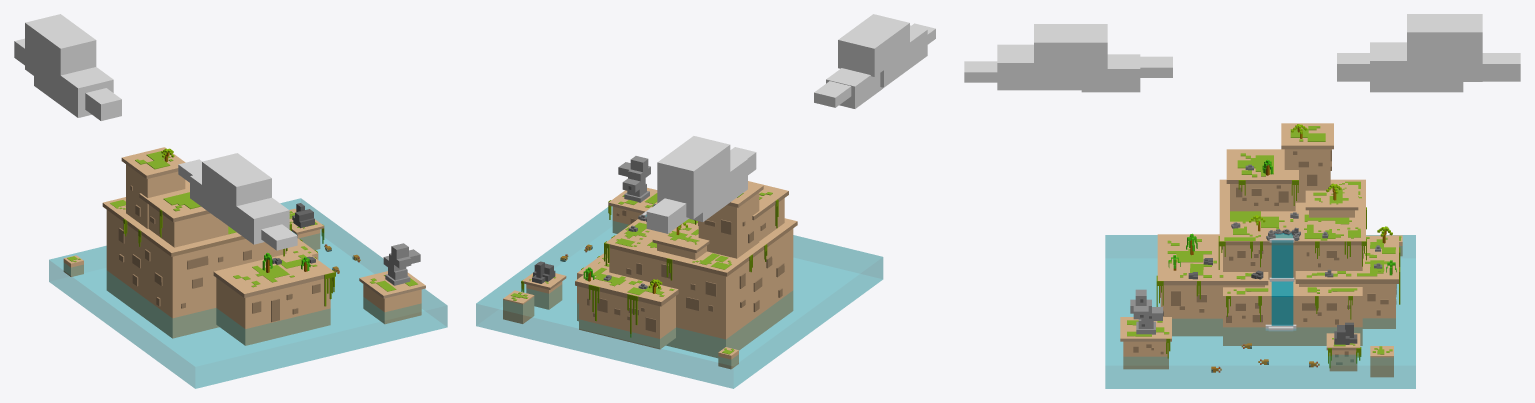
The model's file is Voxel Island.fbx.
The picture shows the model from 3 angles, left to right: view 1: azimuth 30°, elevation 25°; view 2: azimuth 150°, elevation 25°; view 3: azimuth 270°, elevation 25°; orthographic projection. The views are drawn at different scales.
Parts seen in each view (by area): view 1: polySurface664; view 2: polySurface664; view 3: polySurface664.
Boxes of the visible parts, <box> form: polySurface664: <box>14,14,447,388</box>; polySurface664: <box>476,14,935,388</box>; polySurface664: <box>964,14,1520,388</box>.
Size of the model in its own units: 19.53 by 17.33 by 35.18.
